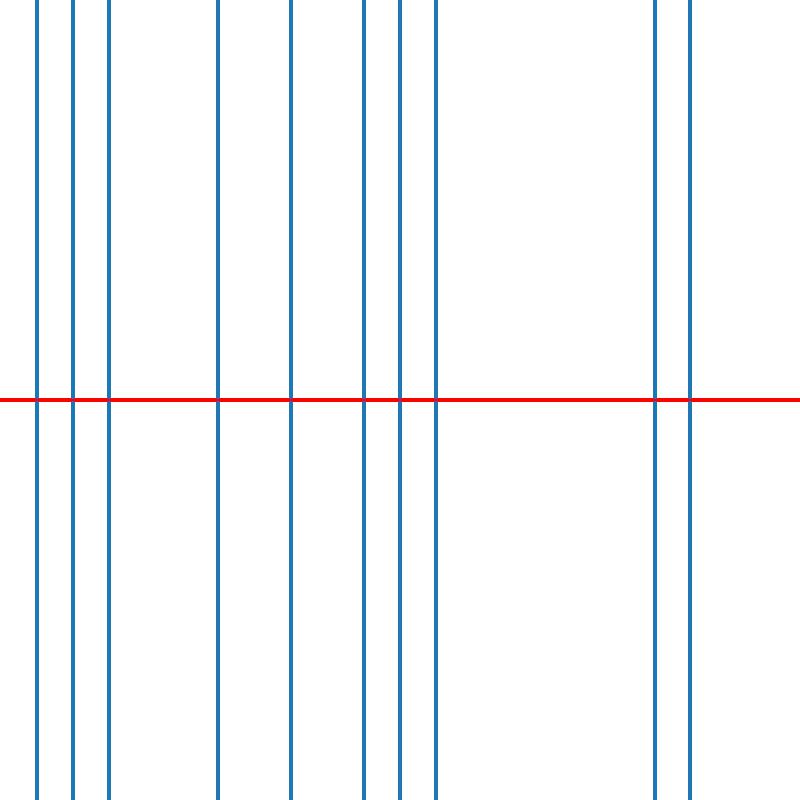root: (432, 396, 440, 404), (650, 396, 658, 404), (32, 396, 40, 404), (396, 396, 403, 404), (105, 396, 112, 404), (214, 396, 221, 404), (69, 396, 76, 404), (687, 396, 694, 404), (360, 396, 367, 404), (287, 396, 294, 404)
